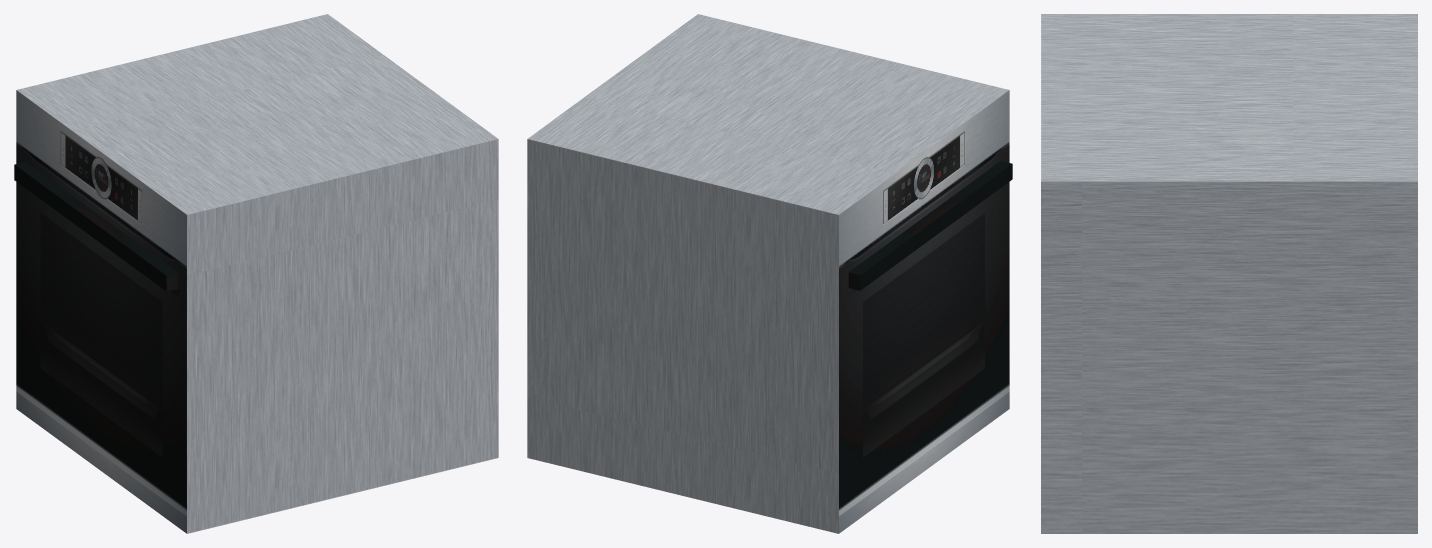
The model's file is Oven.FBX.
3 renders of one model, left to right at view 1: azimuth 30°, elevation 25°; view 2: azimuth 150°, elevation 25°; view 3: azimuth 270°, elevation 25°, orthographic. The views are drawn at different scales.
Visible parts, largest first — view 1: Oven; view 2: Oven; view 3: Oven.
Boxes of the visible parts, x1,y1,x2,y2 form: Oven: (14,14,498,533); Oven: (527,14,1012,533); Oven: (1041,14,1417,533).
Bounding box in the file's own units: 64.42 × 60.76 × 58.94.
1 material, 1 textured.
